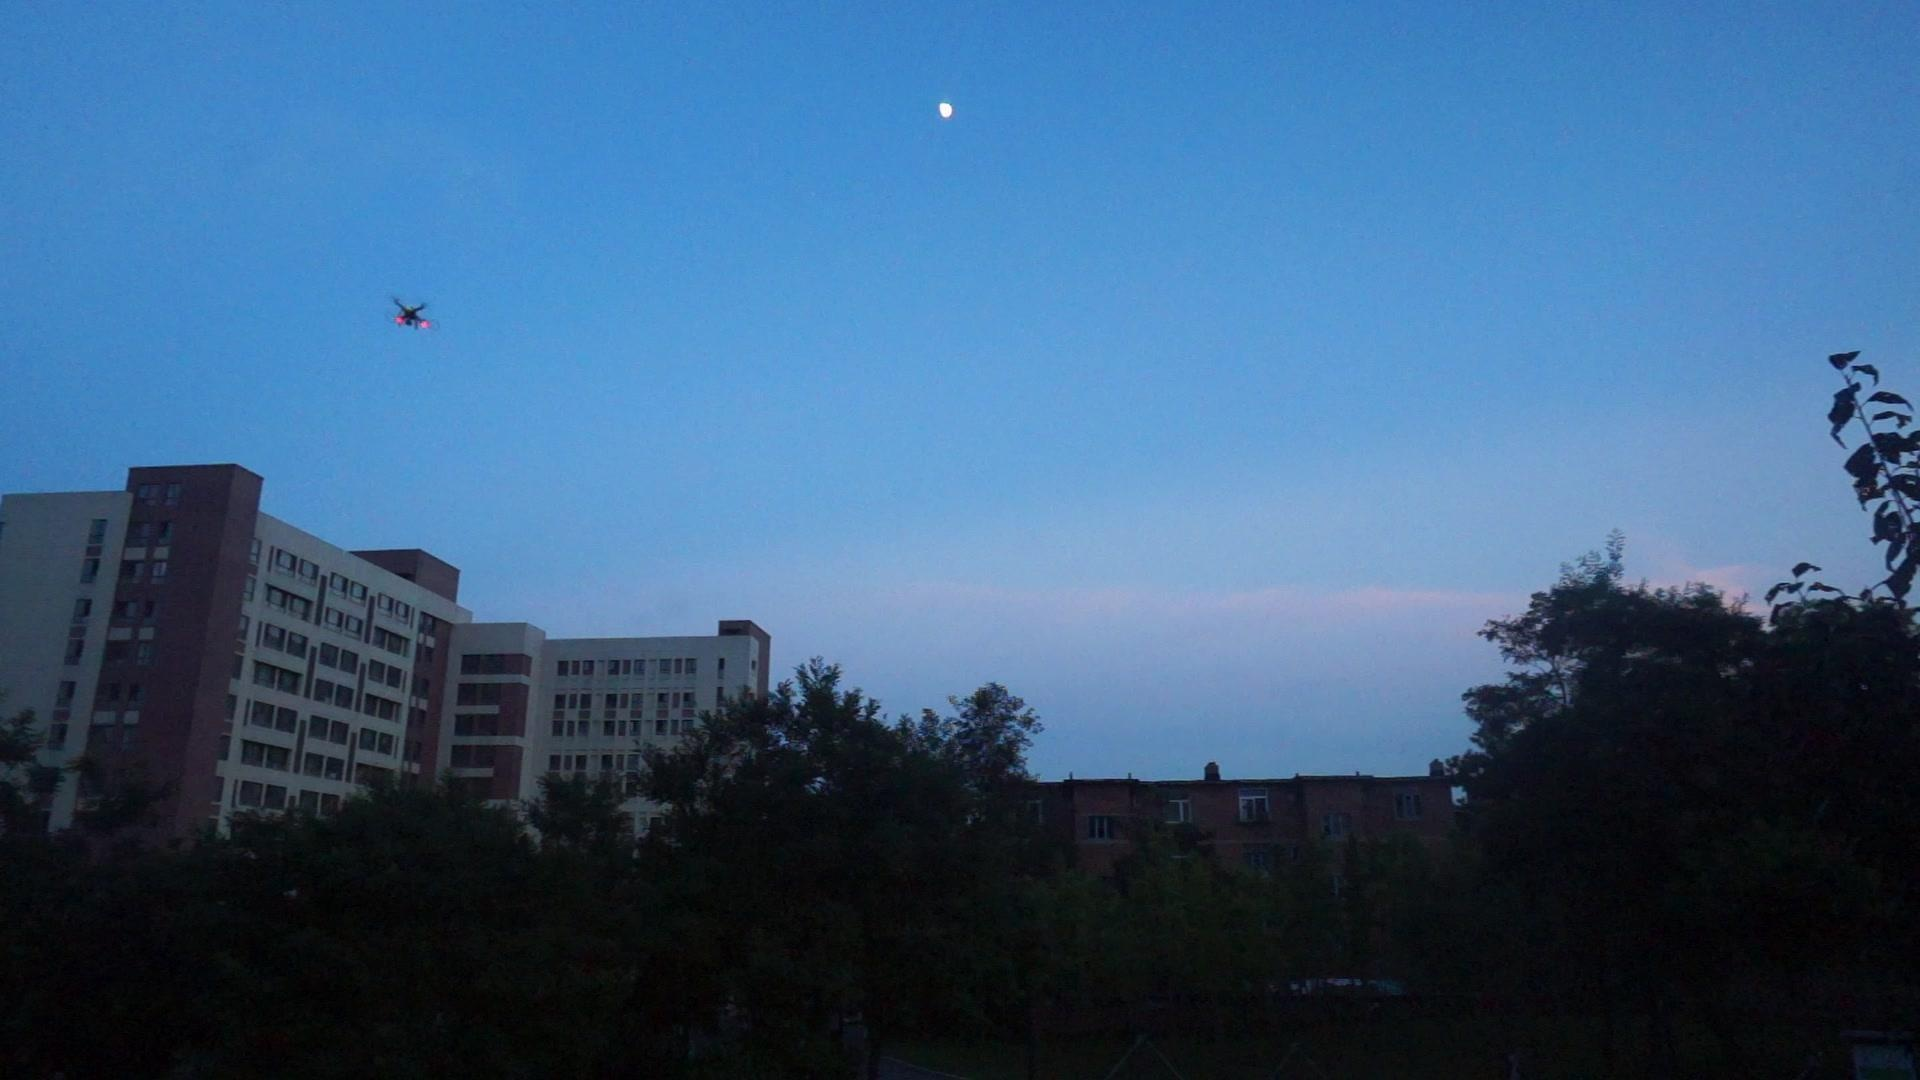UAV: (385, 297, 440, 331)
